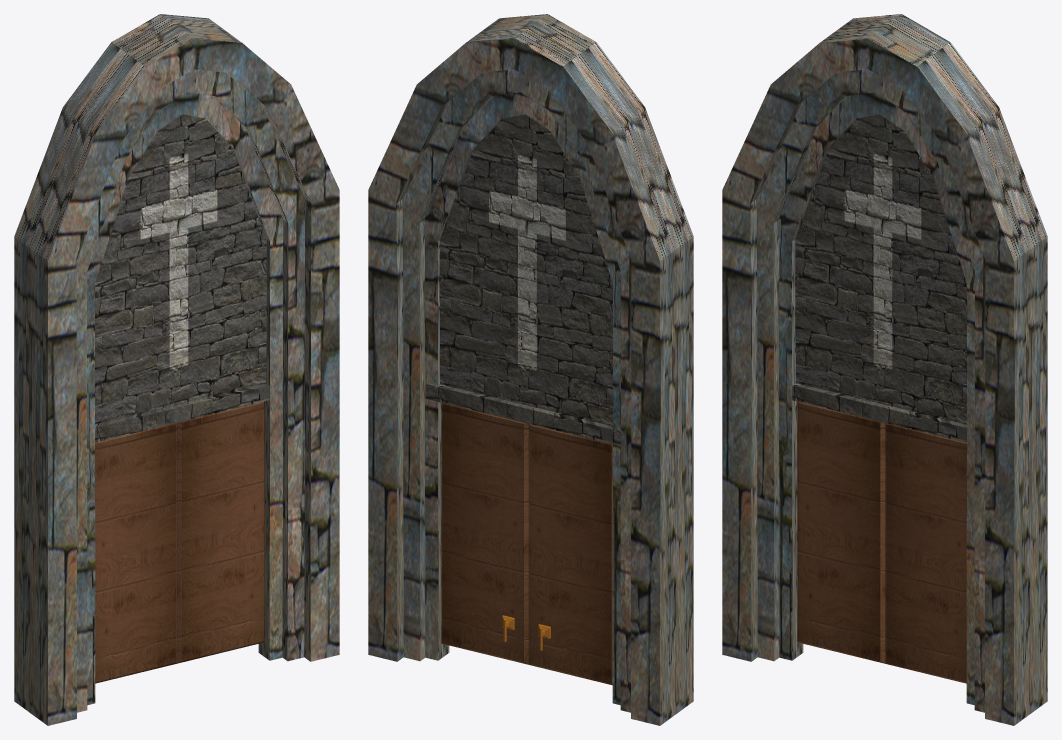
File: Door.fbx
The picture shows the model from 3 angles, left to right: view 1: azimuth 30°, elevation 25°; view 2: azimuth 150°, elevation 25°; view 3: azimuth 330°, elevation 25°; orthographic projection.
Visible parts, largest first — view 1: DoorArk, Enternce brik, DoorArk001, DoorL, DoorR, DoorArk002; view 2: DoorArk, Enternce brik, DoorArk001, DoorL, DoorR, DoorArk002; view 3: DoorArk, Enternce brik, DoorArk001, DoorR, DoorL, DoorArk002.
Boxes of the visible parts, x1,y1,x2,y2 form: DoorArk: [14, 14, 339, 725]; Enternce brik: [95, 114, 269, 442]; DoorArk001: [76, 69, 304, 712]; DoorL: [177, 401, 264, 663]; DoorR: [95, 423, 177, 683]; DoorArk002: [87, 92, 283, 705]; DoorArk: [368, 14, 693, 725]; Enternce brik: [425, 114, 620, 446]; DoorArk001: [403, 69, 631, 712]; DoorL: [441, 402, 528, 664]; DoorR: [528, 424, 612, 685]; DoorArk002: [424, 92, 620, 705]; DoorArk: [722, 14, 1047, 725]; Enternce brik: [792, 114, 966, 442]; DoorArk001: [757, 69, 985, 712]; DoorR: [797, 401, 884, 663]; DoorL: [885, 423, 966, 683]; DoorArk002: [778, 92, 974, 705].
Size of the model in its own units: 7.5 by 16 by 1.5.
4 materials, 4 textured.
